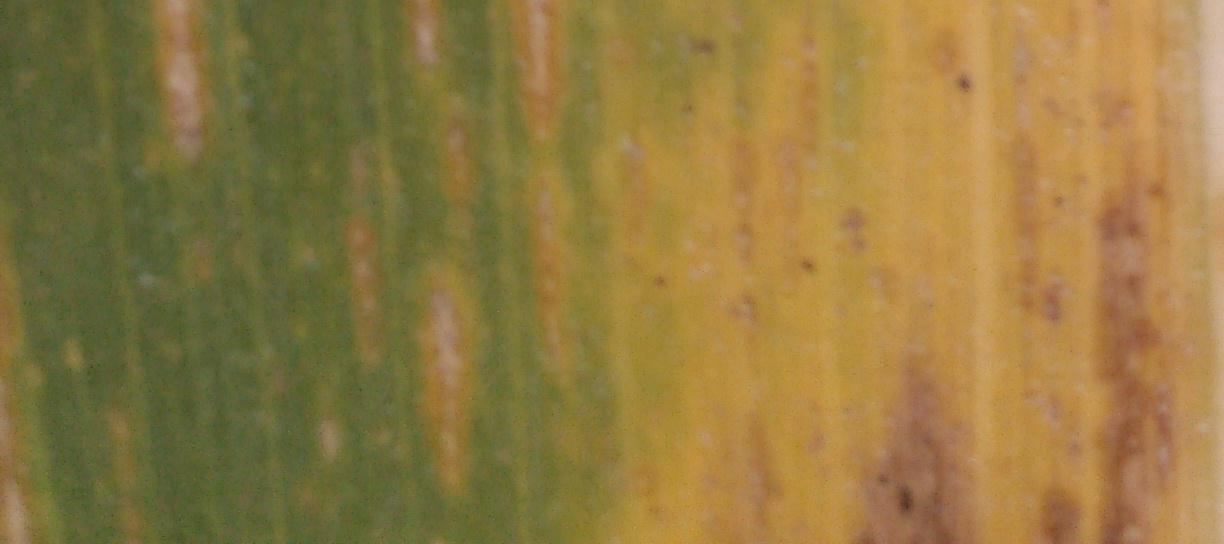tarspot: (889, 469, 922, 519), (687, 33, 728, 65), (643, 265, 680, 300), (949, 65, 982, 102), (874, 458, 899, 492), (793, 252, 818, 285)
